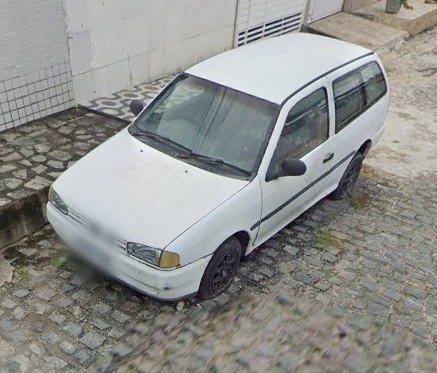car: (44, 29, 391, 304)
